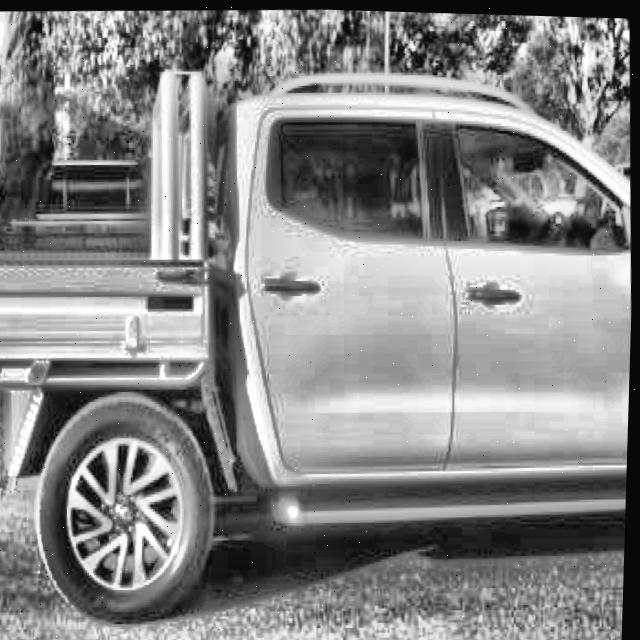light_vehicle: (0, 18, 640, 640)
